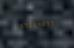eight: (32, 20, 36, 28), (42, 19, 46, 27)
five: (17, 21, 21, 29)
four: (37, 19, 41, 27)
nine: (52, 18, 56, 26), (22, 21, 26, 28), (47, 19, 51, 26)
zero: (27, 20, 31, 28)
